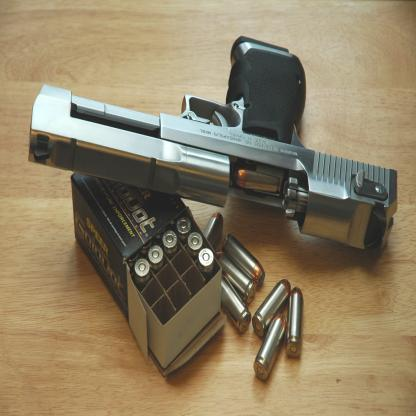handgun: (27, 35, 398, 256)
